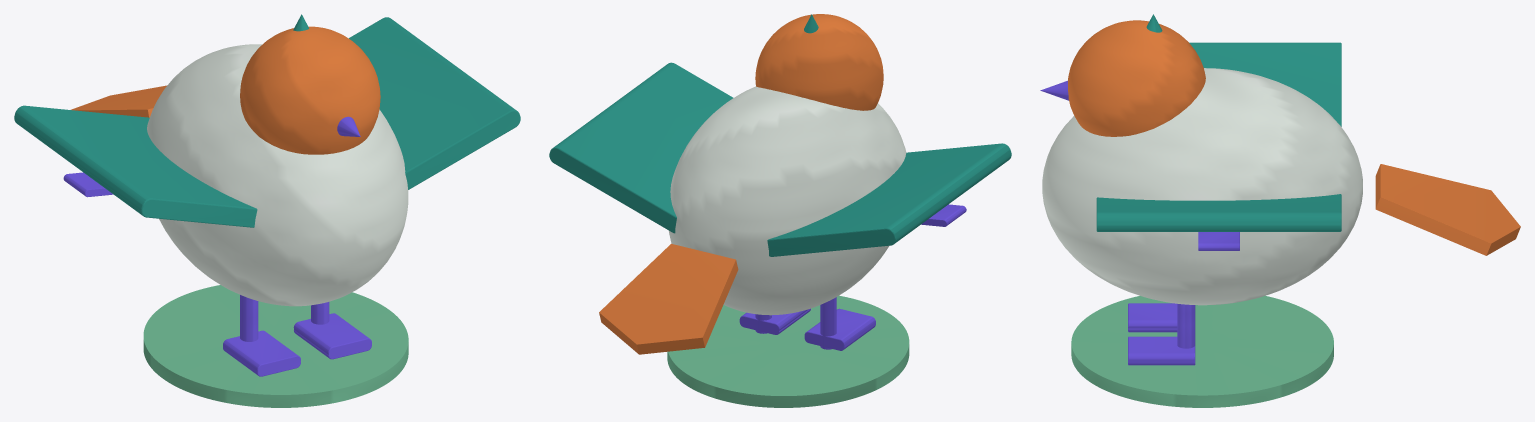
The model's file is 0898_森林动物图鉴_红交嘴雀.glb.
The picture shows the model from 3 angles, left to right: view 1: azimuth 30°, elevation 25°; view 2: azimuth 150°, elevation 25°; view 3: azimuth 270°, elevation 25°; orthographic projection. The views are drawn at different scales.
Visible parts, largest first — view 1: card_0898; view 2: card_0898; view 3: card_0898.
Part boxes in pixels (x1=…): card_0898: x1=14, y1=14, x2=520, y2=407; card_0898: x1=549, y1=14, x2=1011, y2=407; card_0898: x1=1040, y1=14, x2=1520, y2=407.
Bounding box in the file's own units: 1.14 × 1 × 1.28.
